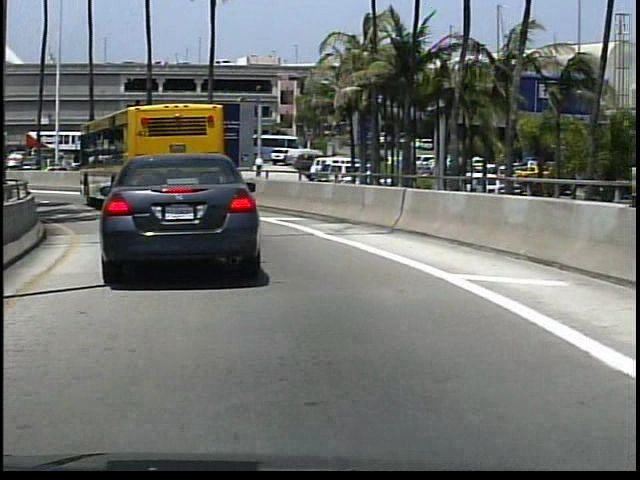person: (252, 153, 264, 181)
